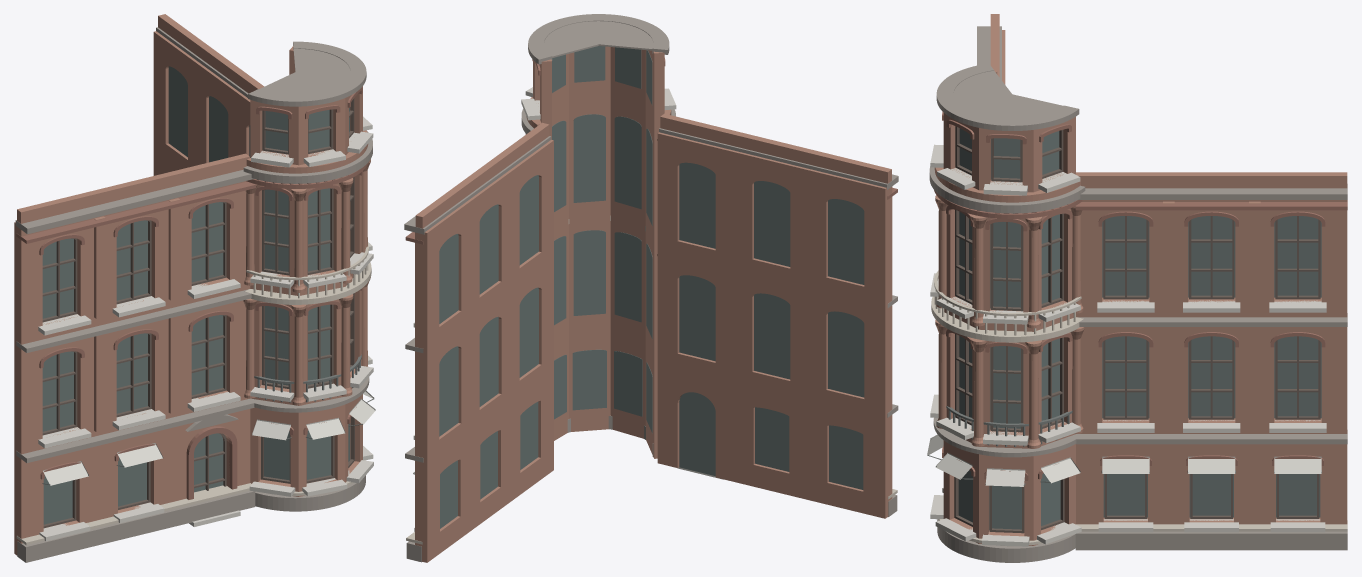
Rendered from huangpu-gibb-livingston-corner-raw.glb.
3 renders of one model, left to right at view 1: azimuth 30°, elevation 25°; view 2: azimuth 150°, elevation 25°; view 3: azimuth 270°, elevation 25°, orthographic. The views are drawn at different scales.
Visible parts, largest first — view 1: 仁记洋行大楼东南转角与相连街墙; view 2: 仁记洋行大楼东南转角与相连街墙; view 3: 仁记洋行大楼东南转角与相连街墙.
Boxes of the visible parts, x1,y1,x2,y2 form: 仁记洋行大楼东南转角与相连街墙: (14,14,375,562); 仁记洋行大楼东南转角与相连街墙: (404,14,898,562); 仁记洋行大楼东南转角与相连街墙: (927,14,1347,562).
Bounding box in the file's own units: 12.69 × 14.23 × 12.24.
